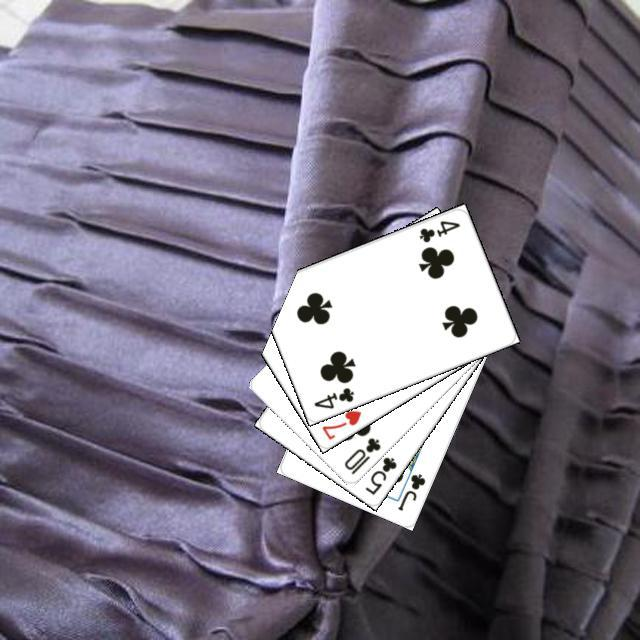10c: (339, 433, 382, 476)
4c: (414, 215, 462, 244), (309, 382, 356, 410)
5c: (360, 452, 398, 497)
7h: (317, 405, 363, 442)
Jc: (393, 469, 427, 513)
